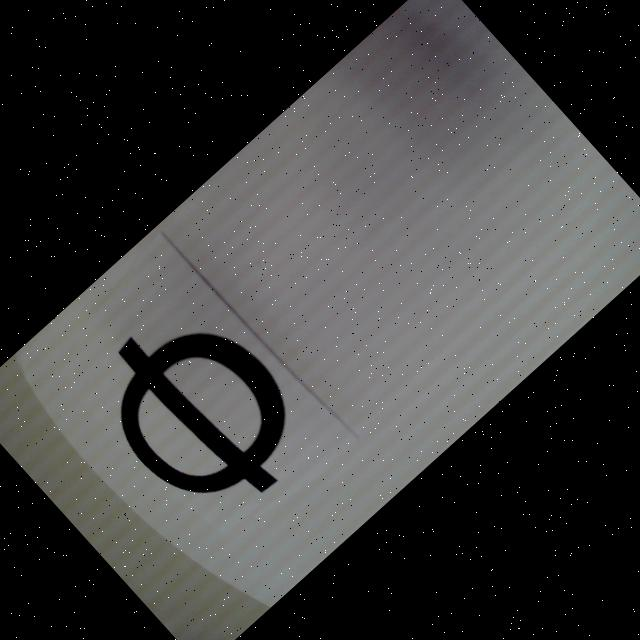PHI: (74, 282, 328, 538)
